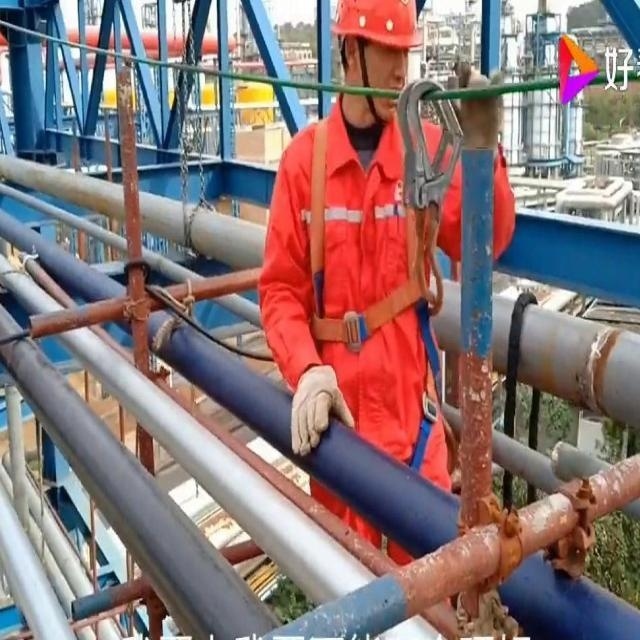Arnes_seguridad: (302, 99, 440, 359)
